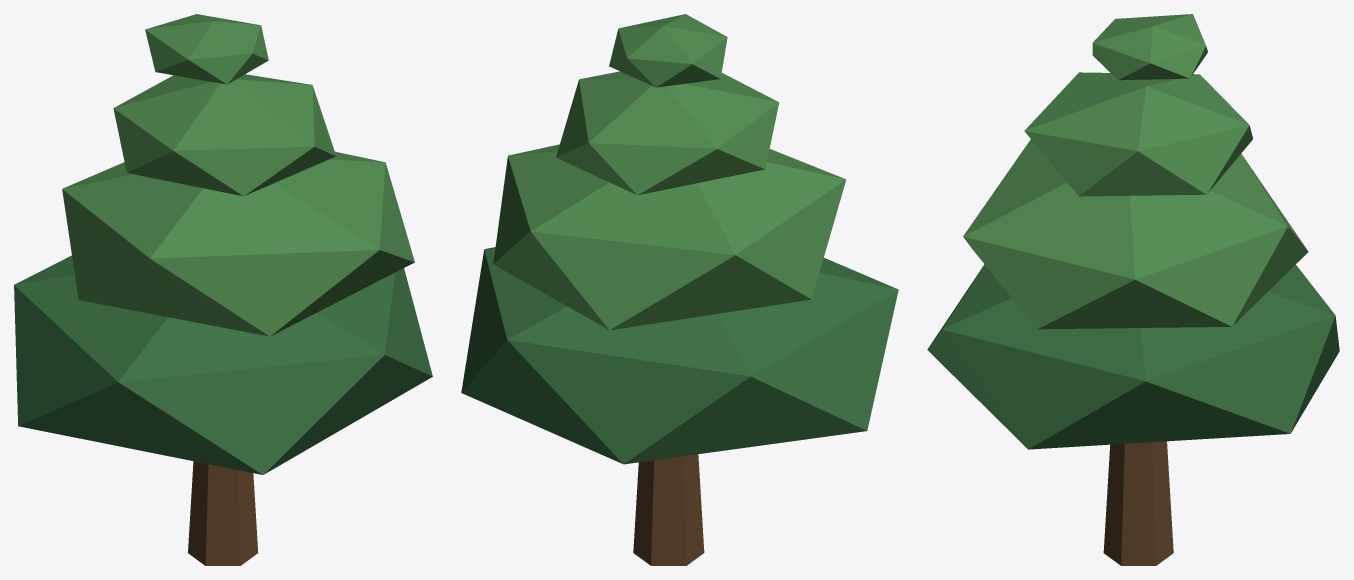
The model's file is cedar.glb.
3 renders of one model, left to right at view 1: azimuth 30°, elevation 25°; view 2: azimuth 150°, elevation 25°; view 3: azimuth 270°, elevation 25°, orthographic.
Visible parts, largest first — view 1: part.001, part.002, part.003, part.004, part; view 2: part.001, part.002, part.003, part, part.004; view 3: part.001, part.002, part.003, part, part.004.
Boxes of the visible parts, x1=… form: part.001: x1=14, y1=255, x2=432, y2=474; part.002: x1=62, y1=151, x2=414, y2=336; part.003: x1=113, y1=74, x2=335, y2=196; part.004: x1=145, y1=14, x2=268, y2=84; part: x1=188, y1=461, x2=258, y2=565; part.001: x1=461, y1=247, x2=898, y2=464; part.002: x1=493, y1=144, x2=846, y2=330; part.003: x1=556, y1=71, x2=779, y2=195; part: x1=633, y1=454, x2=704, y2=565; part.004: x1=609, y1=14, x2=727, y2=87; part.001: x1=927, y1=264, x2=1339, y2=449; part.002: x1=963, y1=139, x2=1308, y2=329; part.003: x1=1024, y1=72, x2=1252, y2=196; part: x1=1103, y1=441, x2=1173, y2=565; part.004: x1=1092, y1=14, x2=1207, y2=80.
Size of the model in its own units: 1.62 by 2.15 by 1.53.
